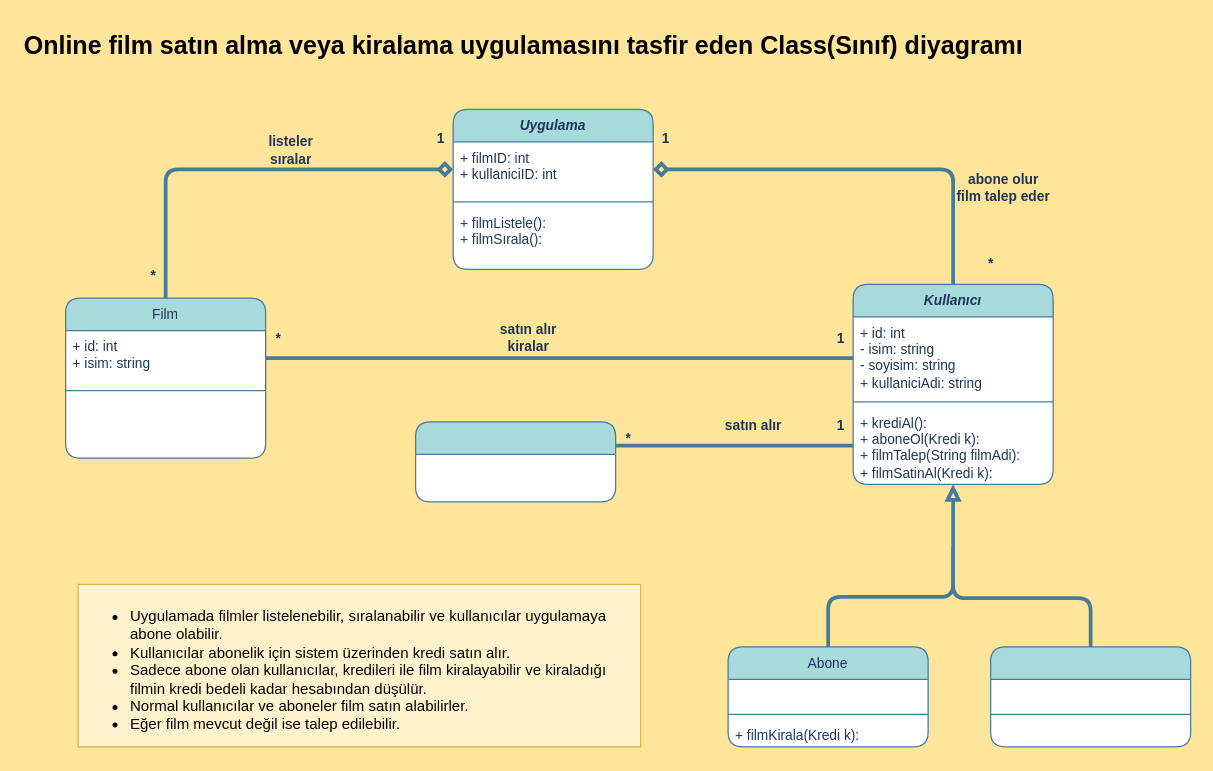
Image size: 1213x771. Some labels were removed from this diagram. Here are the shapes that lost their labels. From the top down, the centre of each, then its label:
[515,461]: Kredi
[1090,696]: Standart
